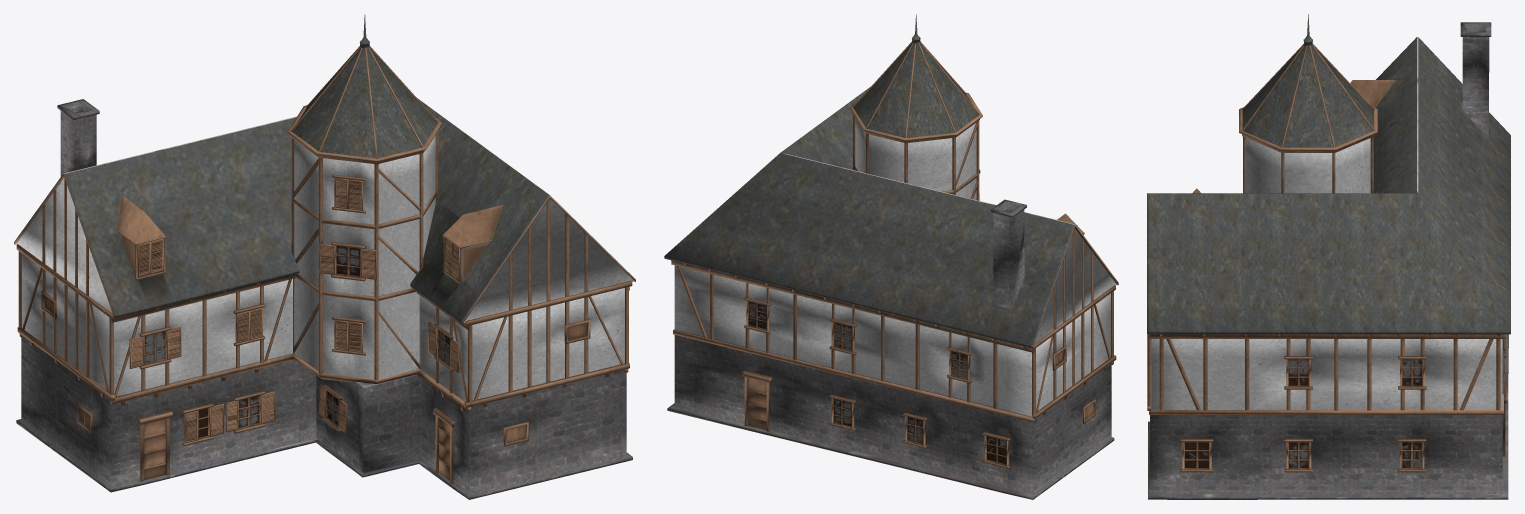
File: house_04.glb
3 renders of one model, left to right at view 1: azimuth 30°, elevation 25°; view 2: azimuth 150°, elevation 25°; view 3: azimuth 270°, elevation 25°, orthographic. The views are drawn at different scales.
Visible parts, largest first — view 1: Medieval_House_04; view 2: Medieval_House_04; view 3: Medieval_House_04.
Part boxes in pixels (left/top/right/bottom): Medieval_House_04: left=14, top=14, right=635, bottom=499; Medieval_House_04: left=664, top=14, right=1118, bottom=499; Medieval_House_04: left=1147, top=14, right=1510, bottom=499.
Size of the model in its own units: 1530 by 1461 by 1199.
Materials: 1 (1 with a texture image).
